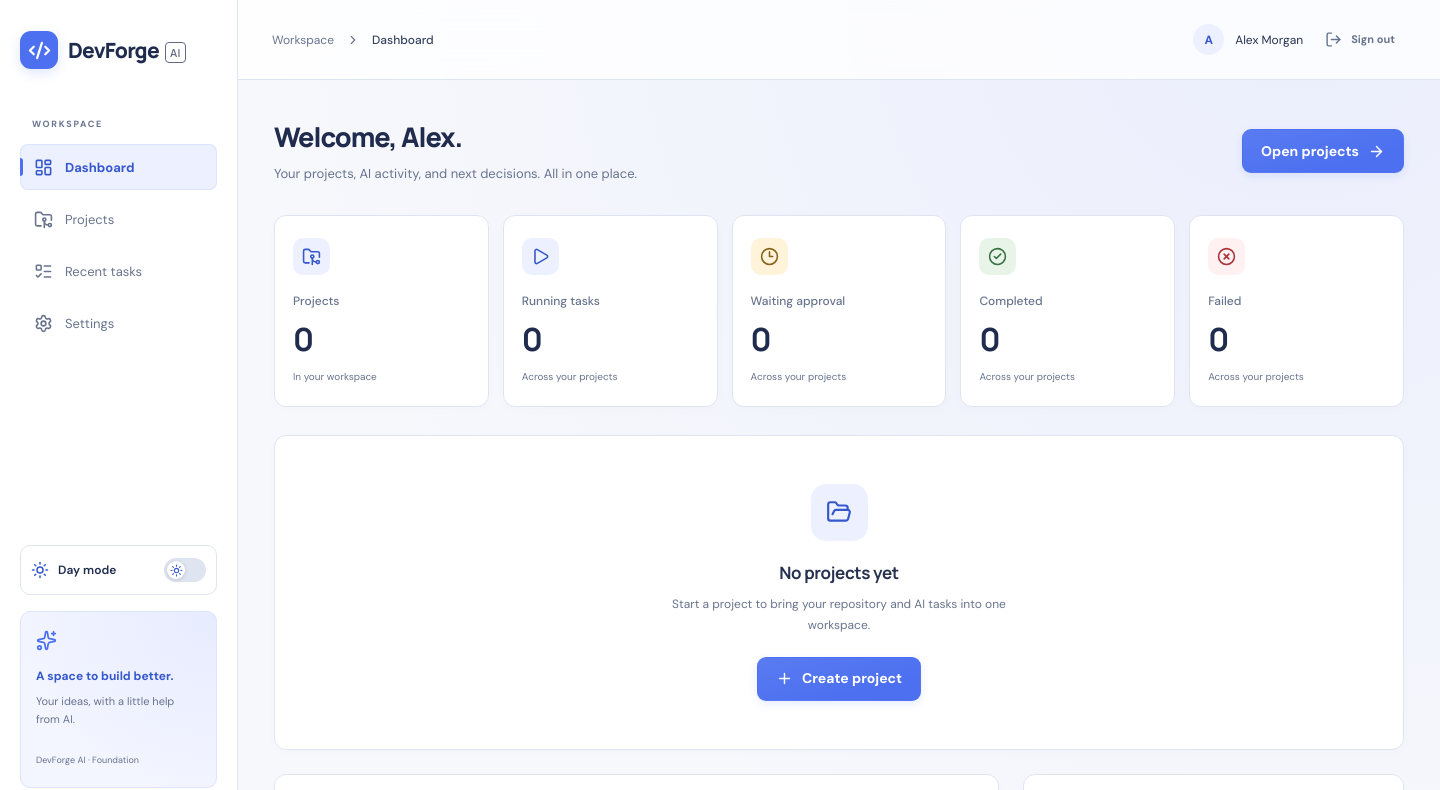
it: auth forms and routes › clears local state and surfaces server logout failure
The width and height of the screenshot is (1440, 790).
Click the button "Sign out": [1360, 40] box x1=1314 y1=18 x2=1406 y2=62
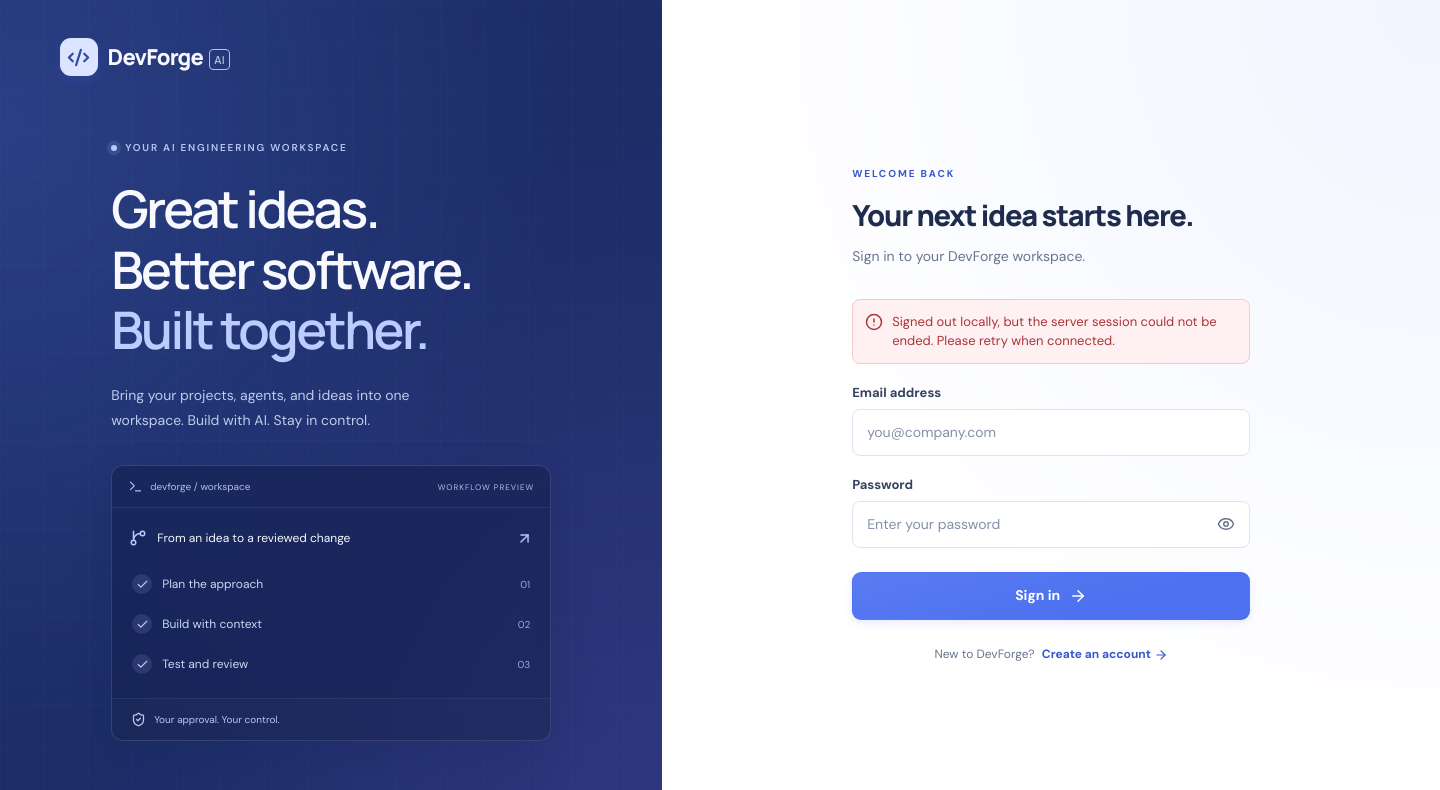
Check: the message shows "Signed out locally", box x1=892 y1=313 x2=1217 y2=349
